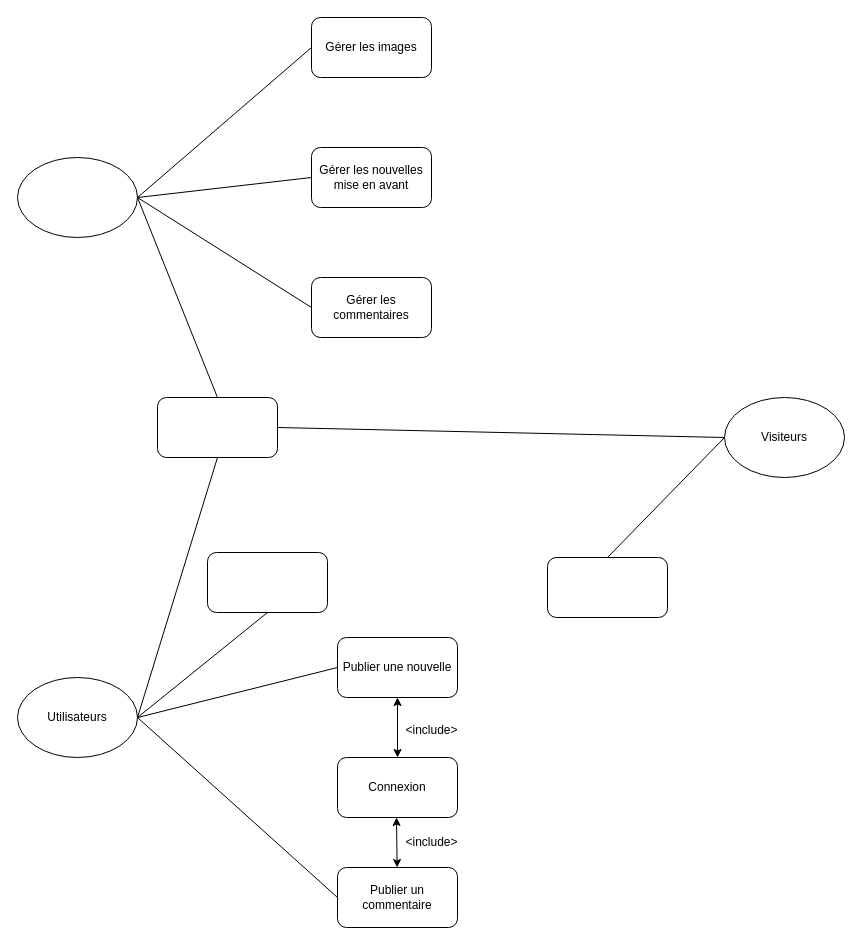
Image size: 862x945. Some labels were removed from this diagram. The shapes that lost their labels are listed below. From the top down, each one's centre as x and y in pixels, then its label:
At (x=77, y=197): "Administrateur".
At (x=217, y=427): "Afficher les nouvelles".
At (x=267, y=582): "Modifier ses données personnel".
At (x=607, y=587): "Inscription".
